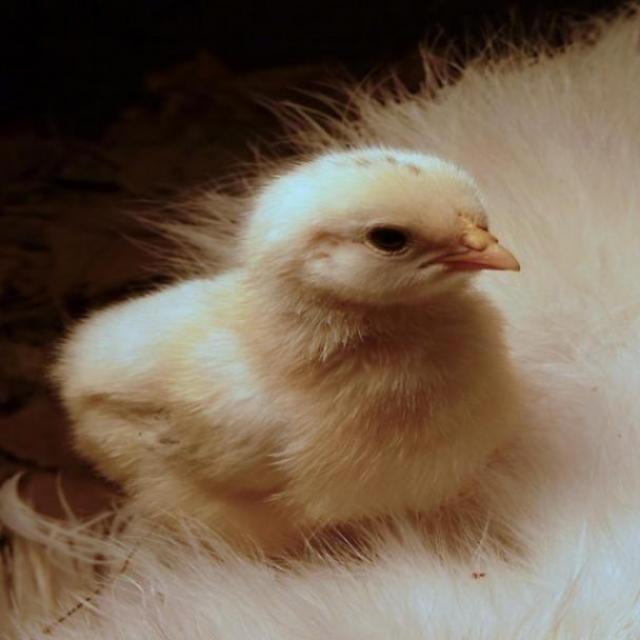Chicken: (44, 140, 518, 563)
